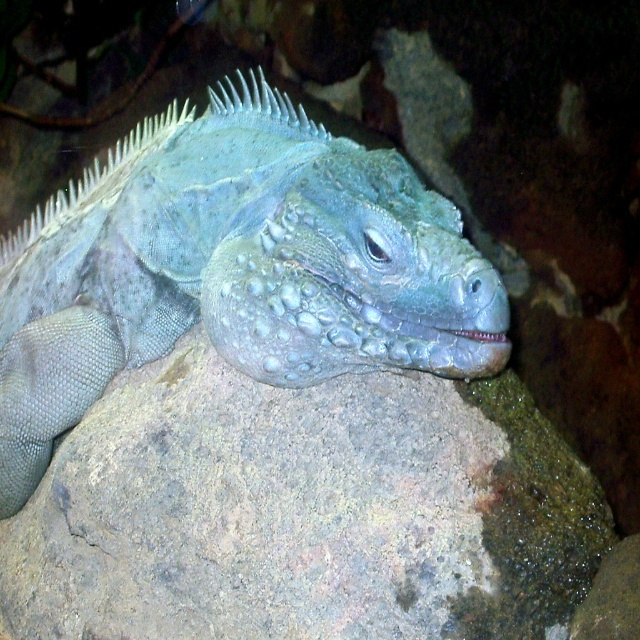Lizard: (0, 62, 509, 522)
